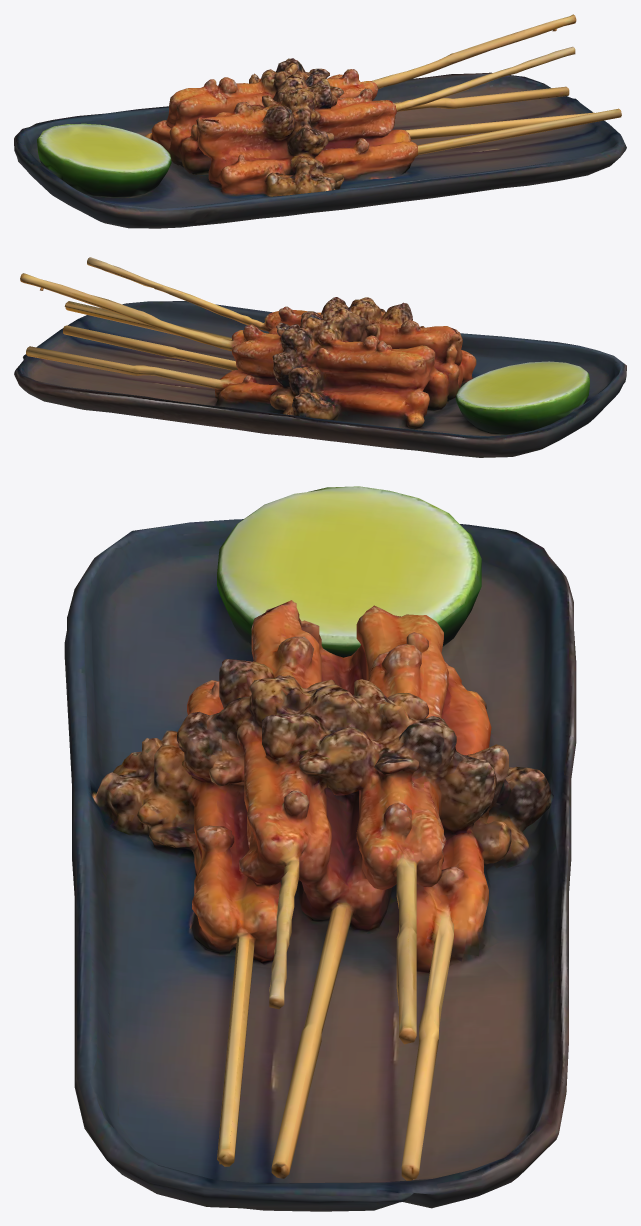
Rendered from chicken-satay-lite.glb.
3 views of the same model, one above another, from view 1: azimuth 30°, elevation 25°; view 2: azimuth 150°, elevation 25°; view 3: azimuth 270°, elevation 25° (orthographic). The views are drawn at different scales.
Parts seen in each view (by area): view 1: tripo_node_9c38dfc2; view 2: tripo_node_9c38dfc2; view 3: tripo_node_9c38dfc2.
Boxes of the visible parts, left/top/right/bottom form: tripo_node_9c38dfc2: left=14, top=14, right=626, bottom=228; tripo_node_9c38dfc2: left=14, top=257, right=626, bottom=457; tripo_node_9c38dfc2: left=64, top=486, right=576, bottom=1211.
Bounding box in the file's own units: 0.3 × 0.0652 × 0.1203.
1 material, 1 textured.
